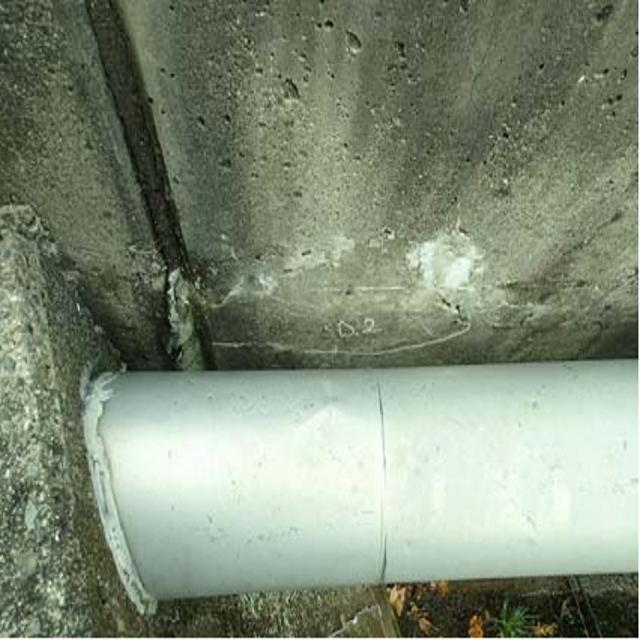freelime: (418, 224, 498, 299)
